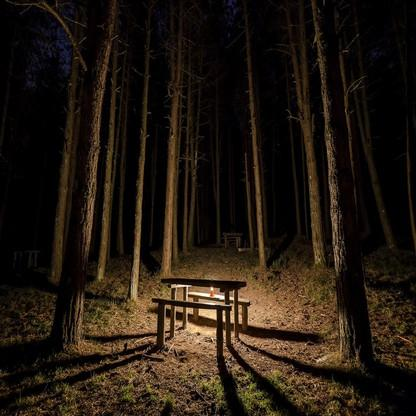obstacle: (144, 258, 260, 364)
